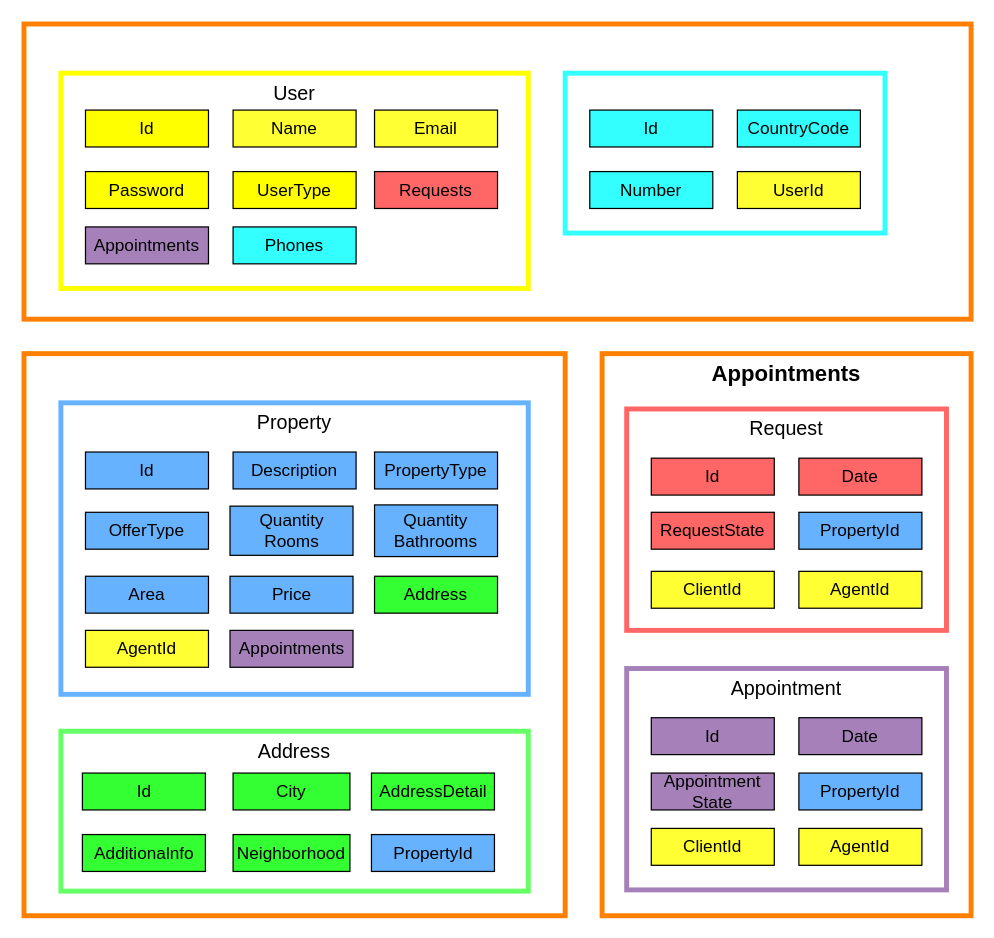
This 994x938 diagram has some shape labels left out. Each missing label, with the box of its shape:
Phone: (562, 70, 887, 235)
Properties: (21, 351, 567, 918)
Users: (21, 21, 973, 321)
